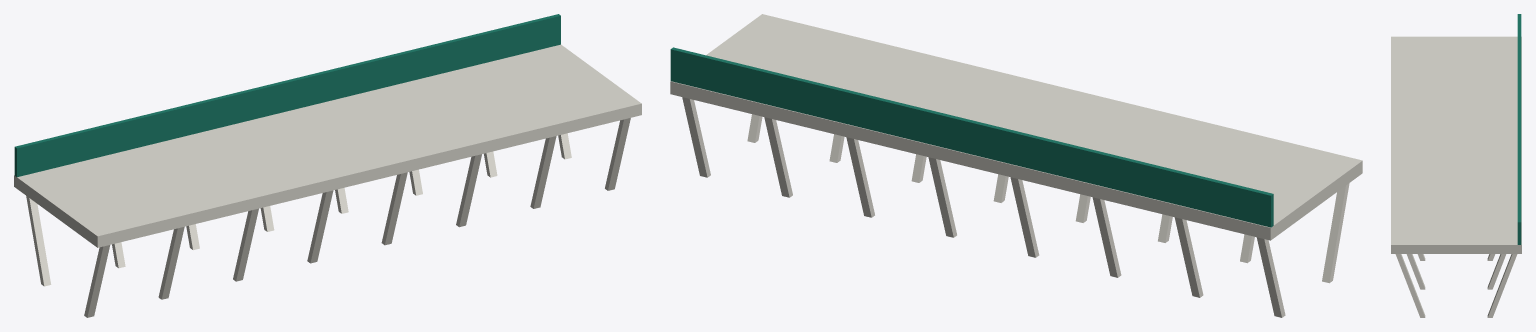
File: m2_toll_plaza_canopy_far.glb
The picture shows the model from 3 angles, left to right: view 1: azimuth 30°, elevation 25°; view 2: azimuth 150°, elevation 25°; view 3: azimuth 270°, elevation 25°; orthographic projection. The views are drawn at different scales.
Parts seen in each view (by area): view 1: m_beam_white, m_sign_green, m_strut_white; view 2: m_beam_white, m_sign_green, m_strut_white; view 3: m_beam_white, m_strut_white, m_sign_green.
Boxes of the visible parts, bbox=[...] form: m_beam_white: bbox=[14, 44, 641, 247]; m_sign_green: bbox=[14, 14, 560, 177]; m_strut_white: bbox=[26, 118, 630, 317]; m_beam_white: bbox=[670, 14, 1362, 240]; m_sign_green: bbox=[670, 47, 1273, 227]; m_strut_white: bbox=[682, 97, 1349, 317]; m_beam_white: bbox=[1391, 36, 1521, 253]; m_strut_white: bbox=[1395, 254, 1517, 317]; m_sign_green: bbox=[1517, 14, 1521, 244].
Bounding box in the file's own units: 39.51 × 8.75 × 10.5.
